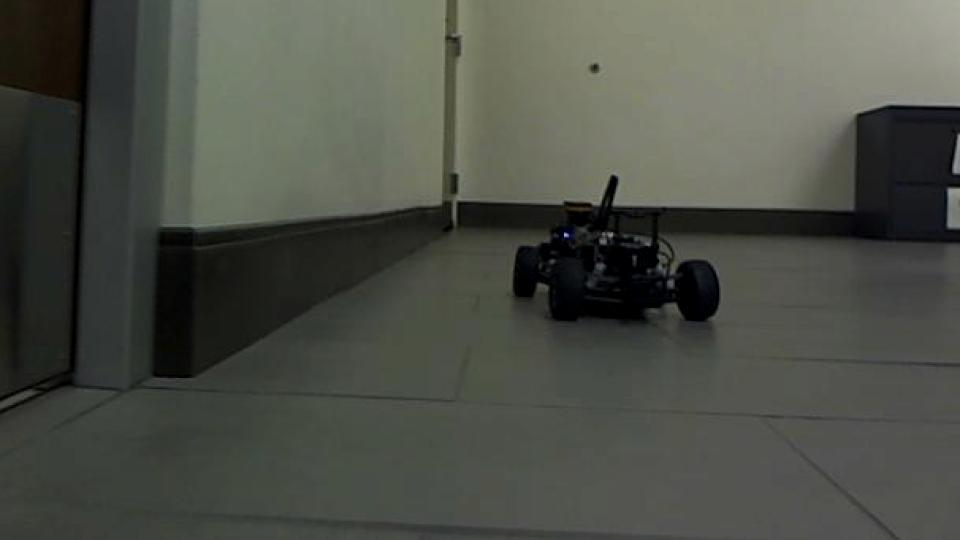car: (508, 172, 722, 326)
